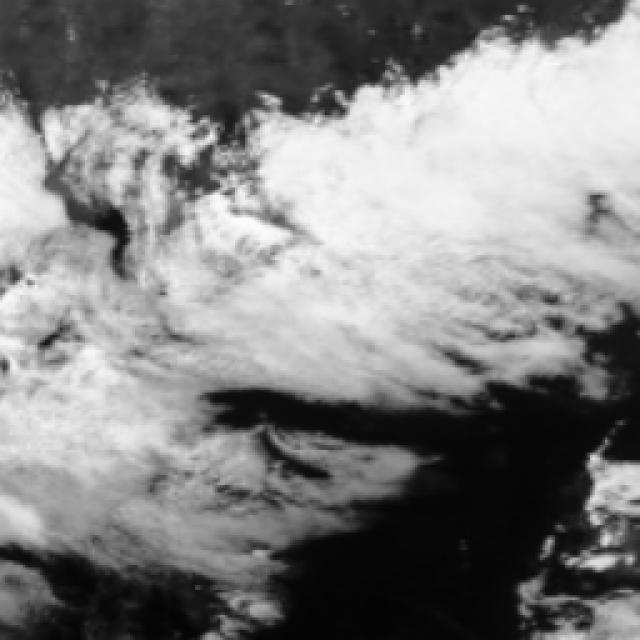CB: (325, 128, 569, 238)
